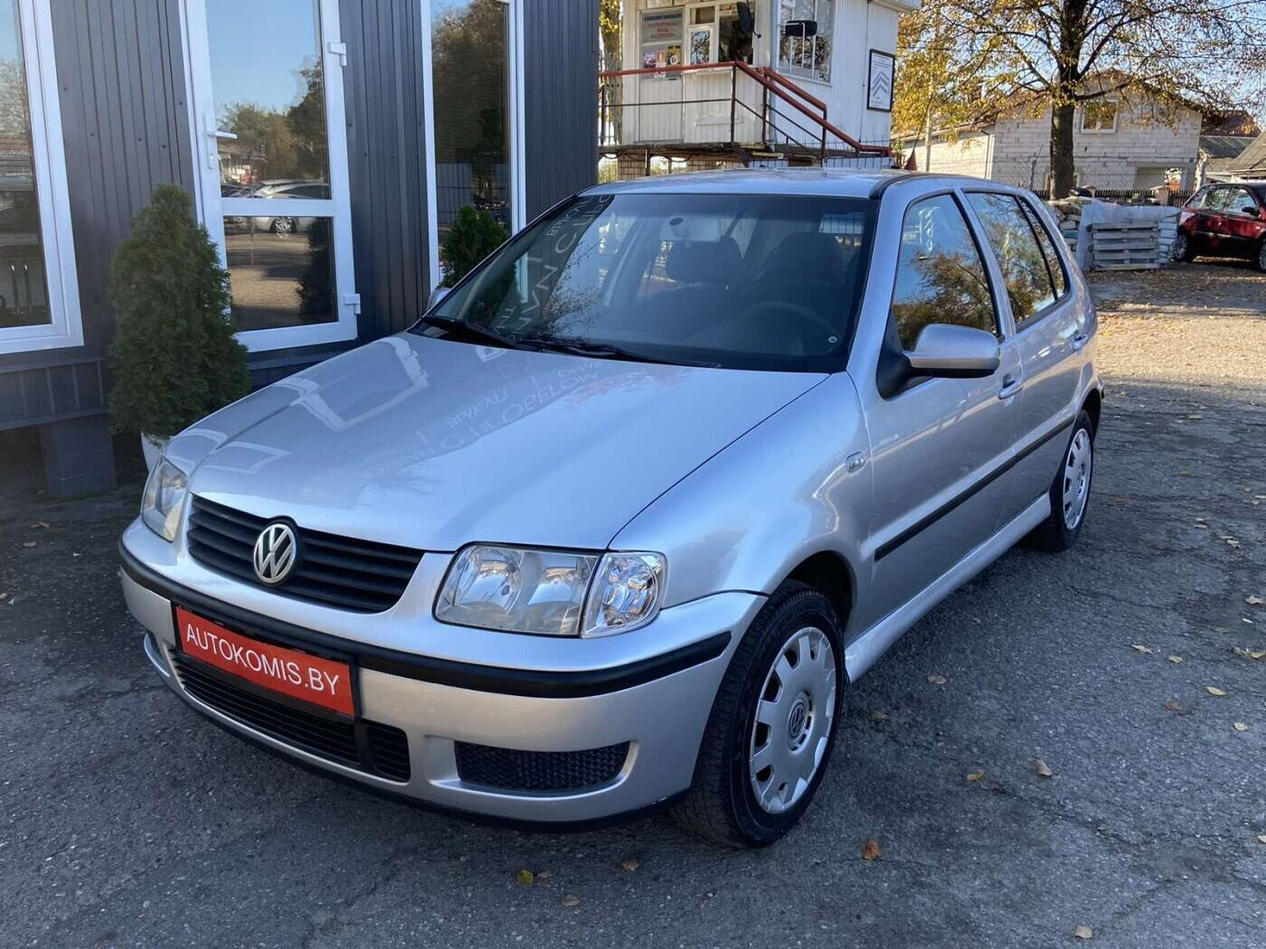Polo_2000-2002: (116, 150, 1109, 843)
